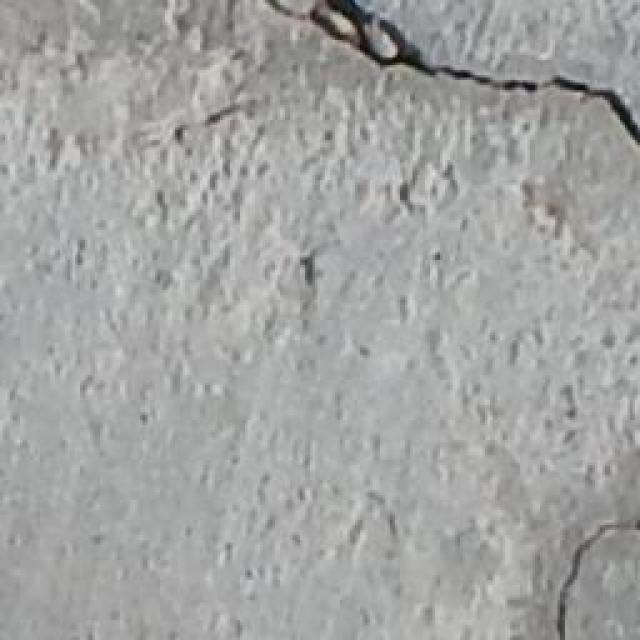concrete-crack: (255, 0, 640, 157)
